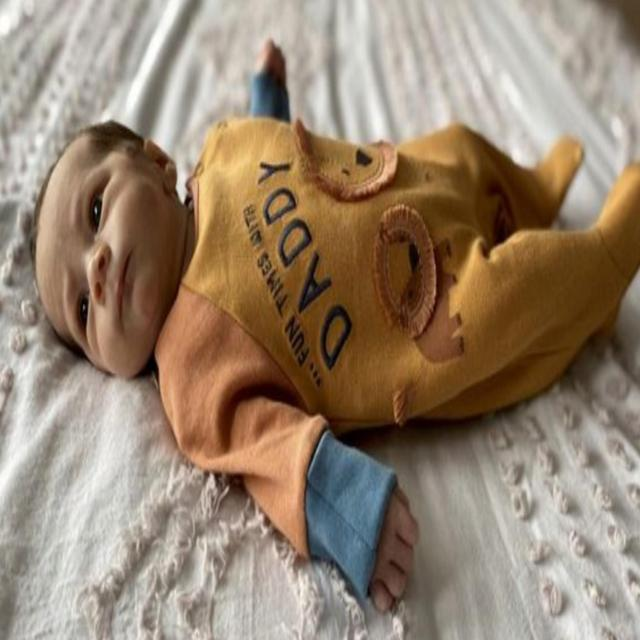non-dog: (25, 37, 640, 617)
